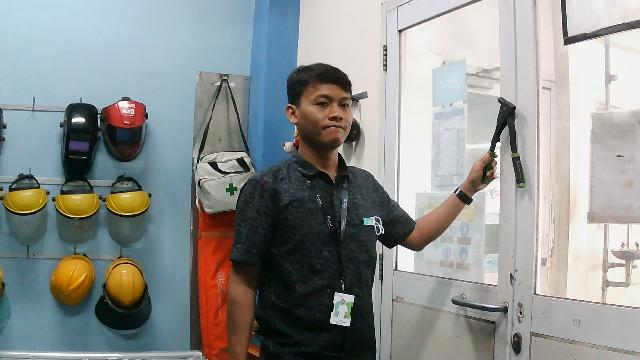tang_rivet: (480, 96, 530, 192)
